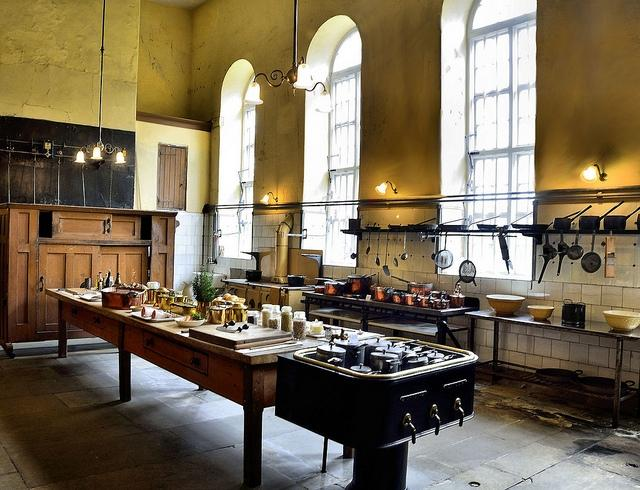carrot: (184, 316, 191, 322)
